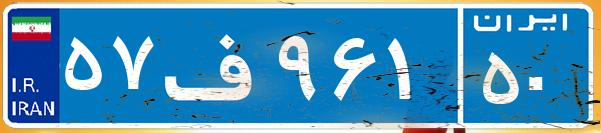0: (525, 38, 570, 115)
1: (385, 28, 445, 110)
5: (57, 26, 110, 107), (475, 38, 525, 113)
6: (330, 28, 385, 110)
7: (110, 28, 158, 105)
9: (273, 28, 330, 110)
ف: (158, 15, 273, 115)
